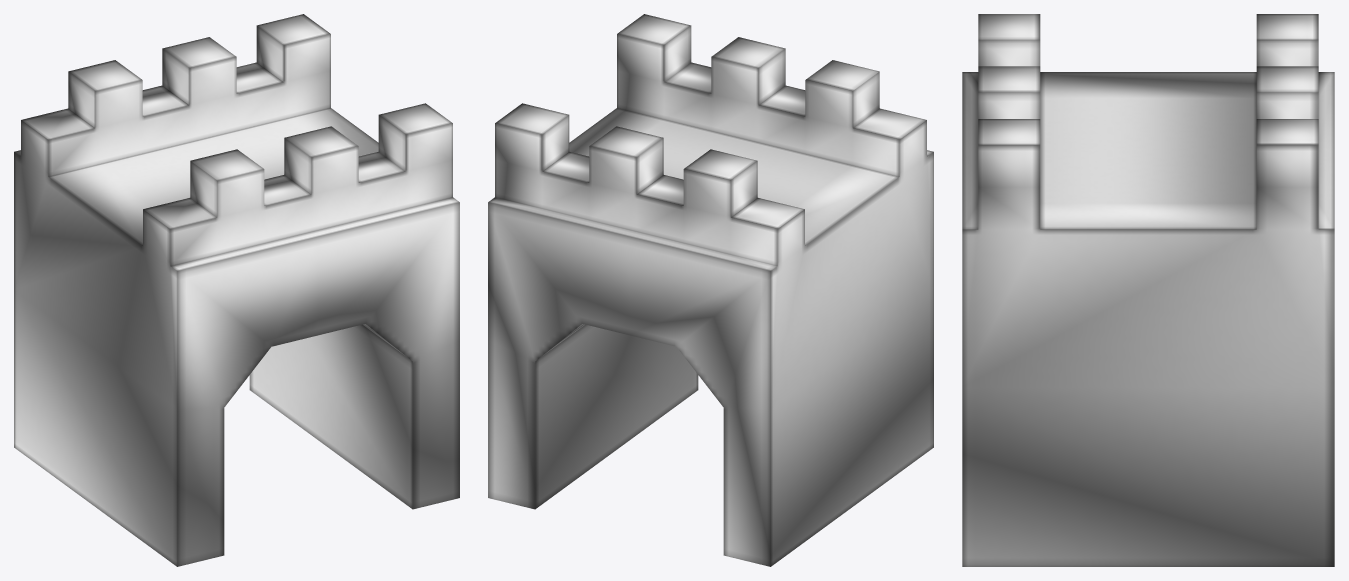
File: Wall-02.fbx
3 views of the same model, side by side, from view 1: azimuth 30°, elevation 25°; view 2: azimuth 150°, elevation 25°; view 3: azimuth 270°, elevation 25° (orthographic). The views are drawn at different scales.
Visible parts, largest first — view 1: Wall-02; view 2: Wall-02; view 3: Wall-02.
Boxes of the visible parts, x1,y1,x2,y2 form: Wall-02: [14, 14, 459, 566]; Wall-02: [488, 14, 933, 566]; Wall-02: [962, 14, 1334, 566].
Size of the model in its own units: 1 by 1.25 by 1.
